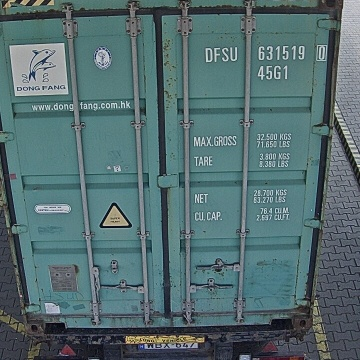serial_id: (205, 45, 326, 62)
